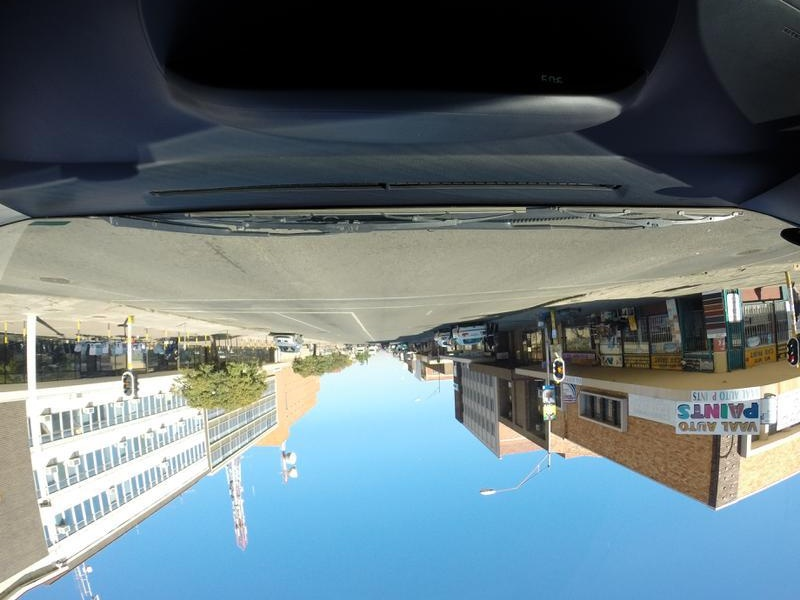pothole: (733, 244, 760, 255), (37, 277, 73, 282)
